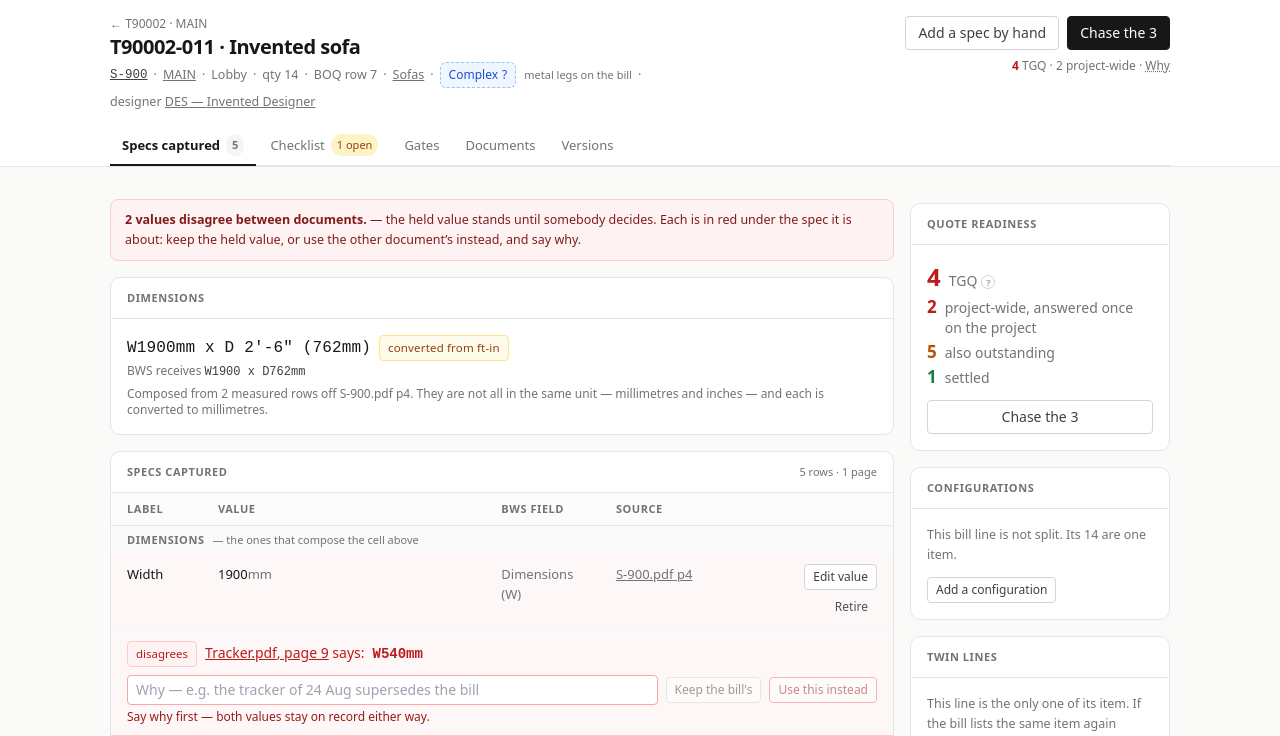
Test case: the Specs tab › opens Add a configuration at the top of the tab
Click the button "Add a configuration" at (992, 590), box [927,577,1056,603]
(page scrolled)
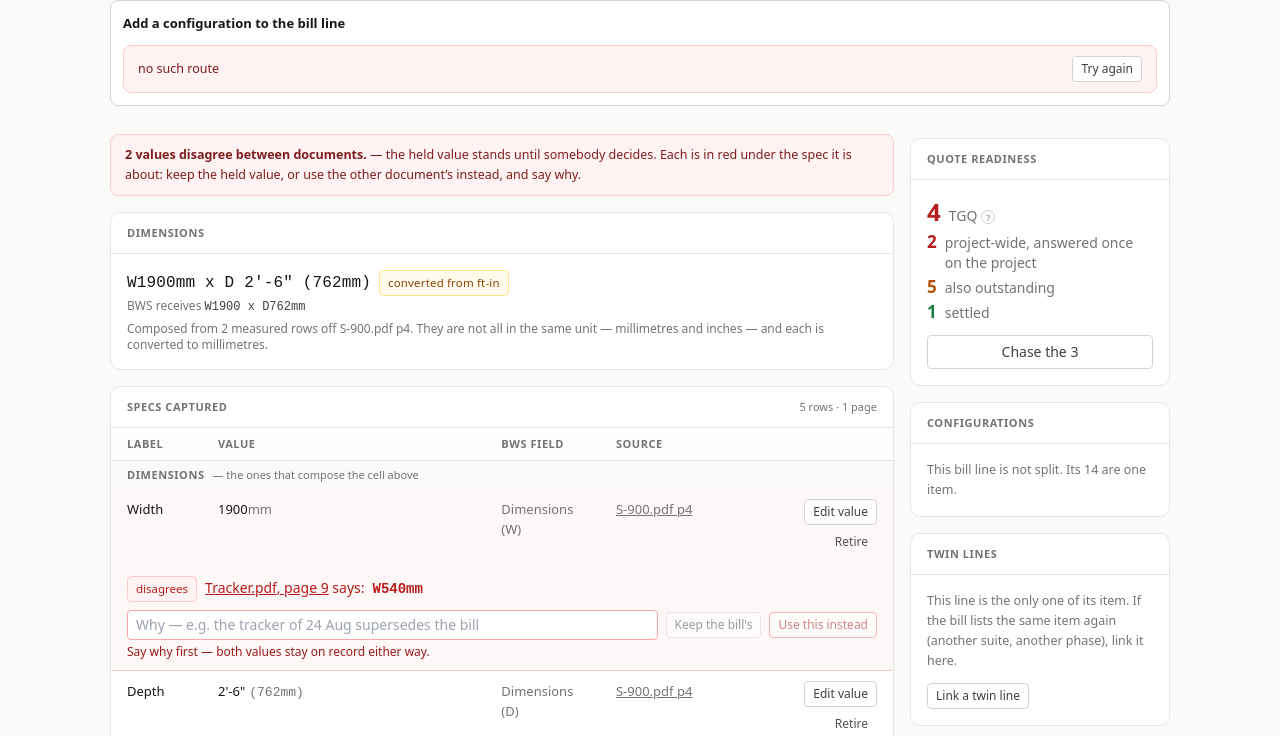
Expected: the element with id "add-configuration" is shown, [110,0,1170,106]
